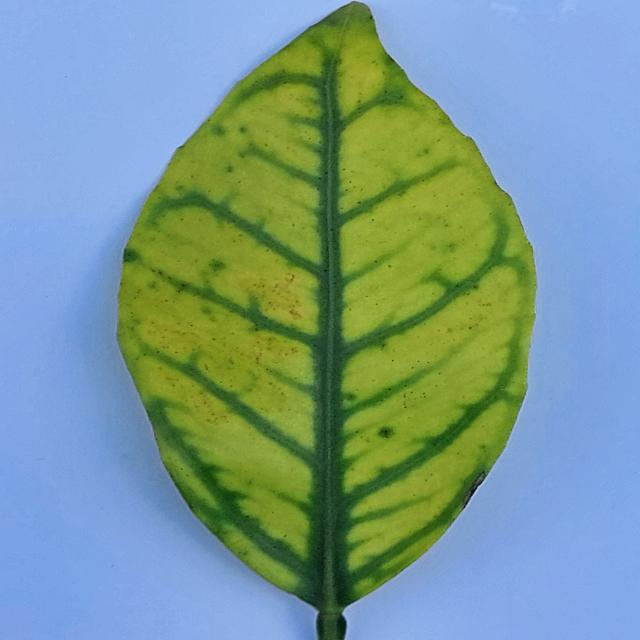greening: (119, 2, 535, 640)
